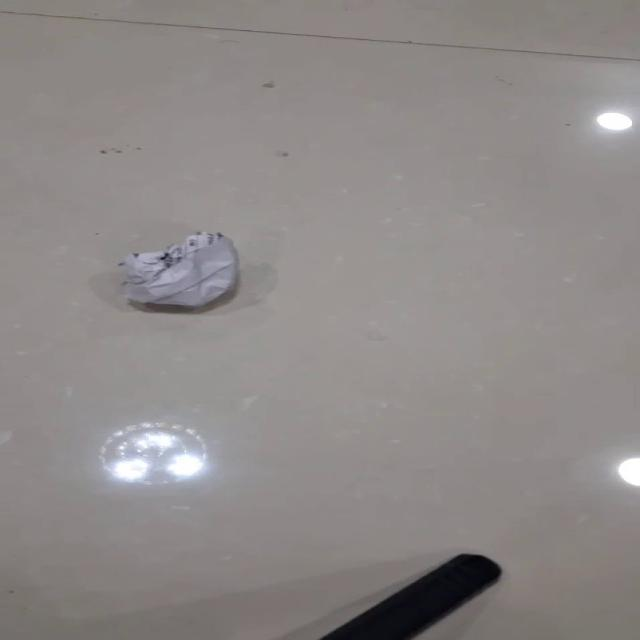paper: (118, 230, 240, 308)
